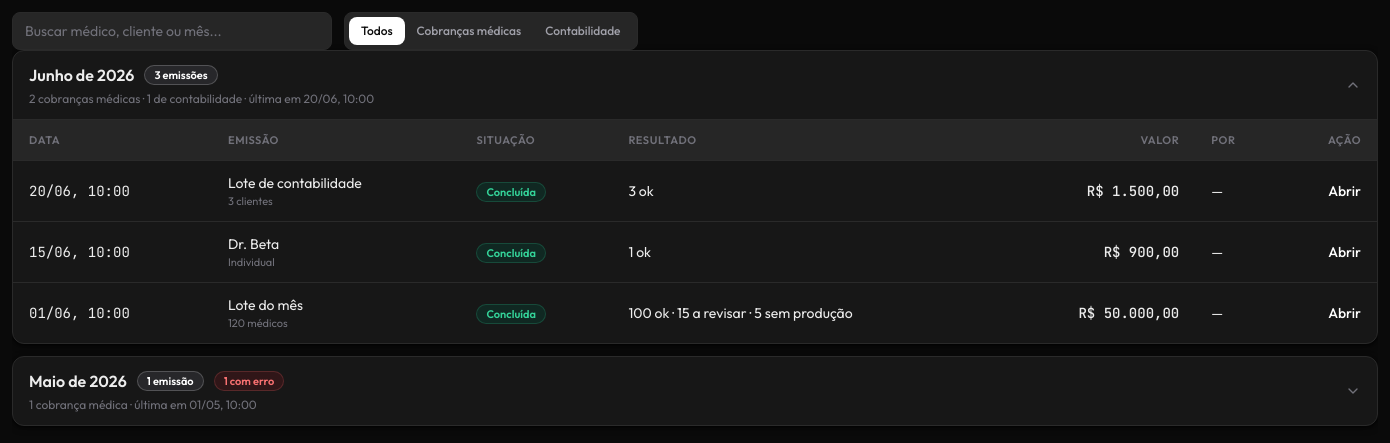
it: HistoricoExecucoes › filtro de serviço Contabilidade deixa só as emissões contábeis
Check: the button "Junho de 2026" is shown, box [13, 51, 1377, 119]
Click the button "Contabilidade".
click(583, 31)  # box [533, 17, 632, 45]
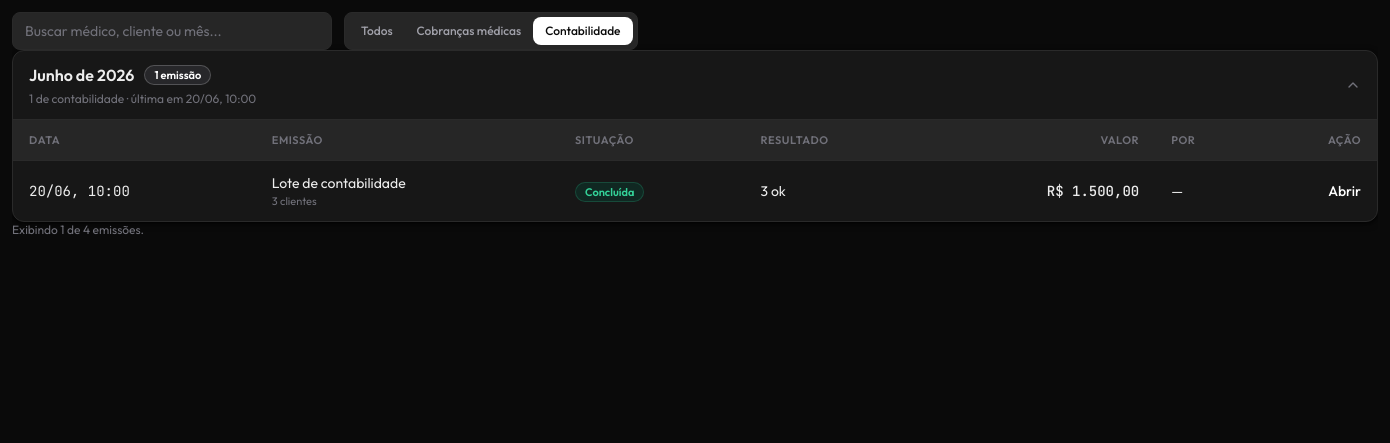
Check: the text "Lote de contabilidade" is shown, box [272, 174, 406, 192]
Check: the text "Lote do mês" is gone
Check: the button "Maio de 2026" is gone
